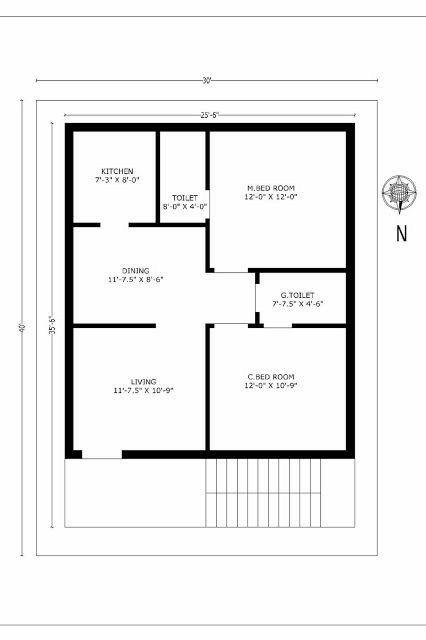wall: (346, 123, 355, 459), (65, 123, 73, 459), (65, 450, 355, 459), (65, 123, 355, 131), (205, 122, 210, 273), (205, 323, 355, 328), (205, 268, 355, 273), (205, 323, 210, 459), (65, 223, 210, 227), (65, 323, 156, 328), (156, 123, 160, 227), (255, 268, 260, 328)
